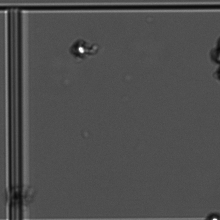Dead Cell: (6, 184, 28, 207)
Living Cell: (69, 38, 96, 59)
